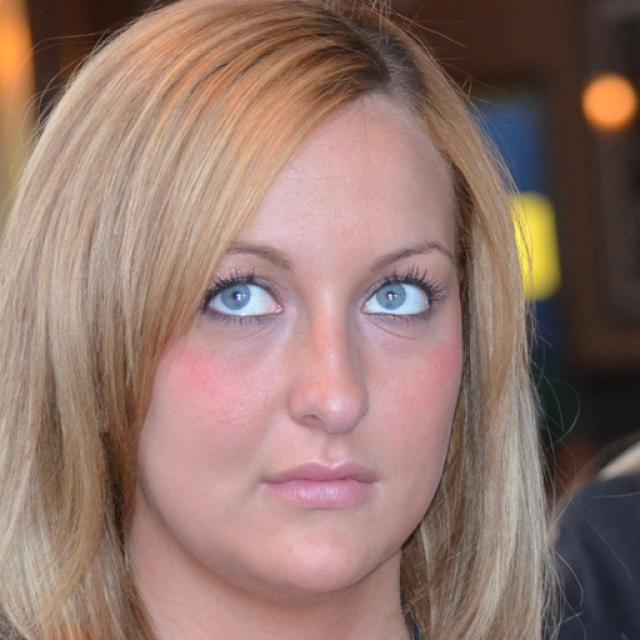content: (121, 78, 468, 592)
